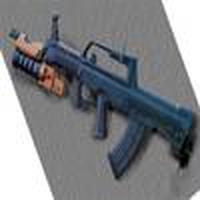gun: (7, 13, 194, 184)
